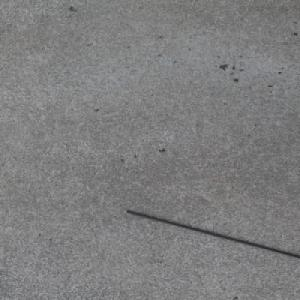LuggagePart: (125, 209, 300, 260)
